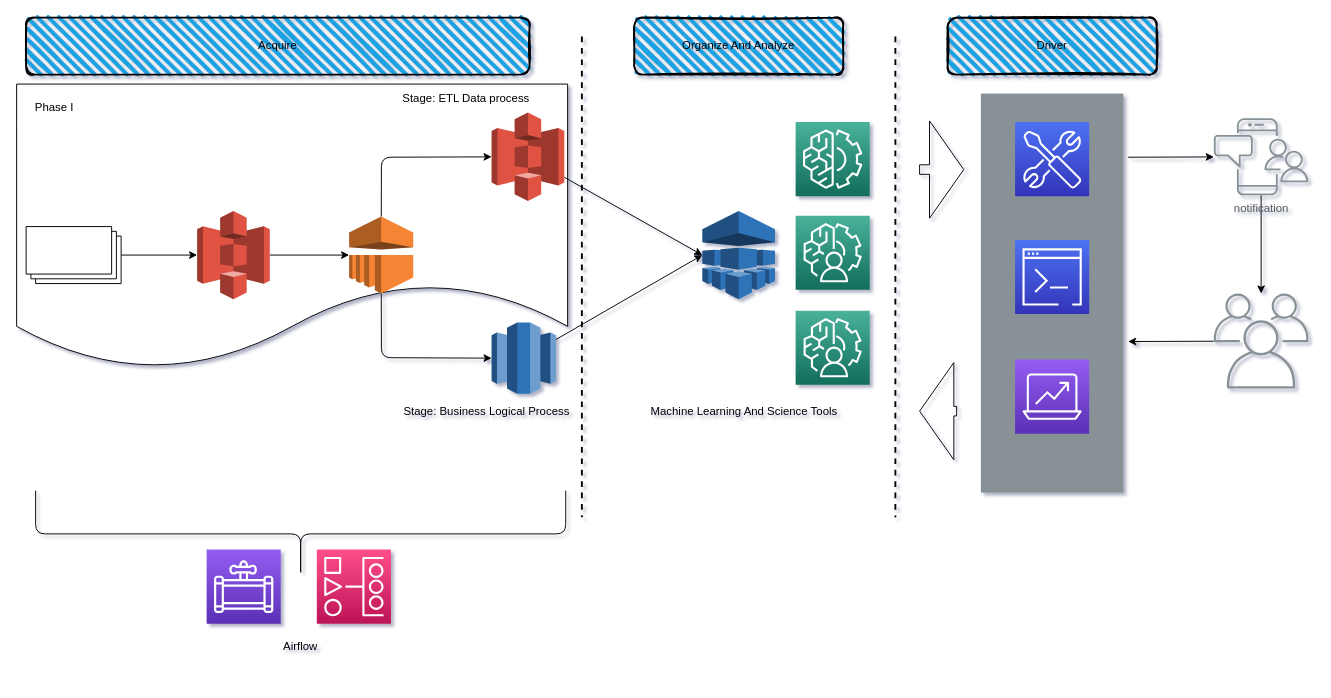
Image size: 1331x698. Some labels were removed from this diagram. The shapes that lost their labels are listed below. From the top down, each one's box as (x1, y1, x2, y2) in pixels, then its label:
(25, 226, 121, 284): Source Data
(1213, 293, 1308, 388): users
